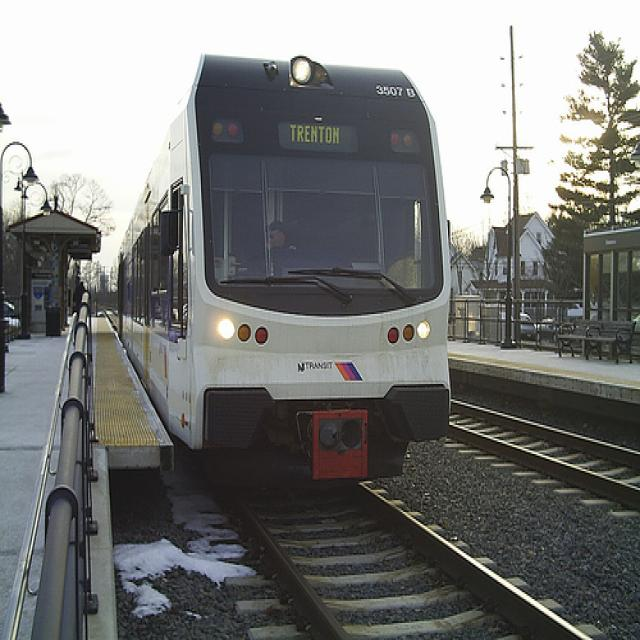person: (265, 218, 301, 252)
train: (115, 49, 455, 498)
